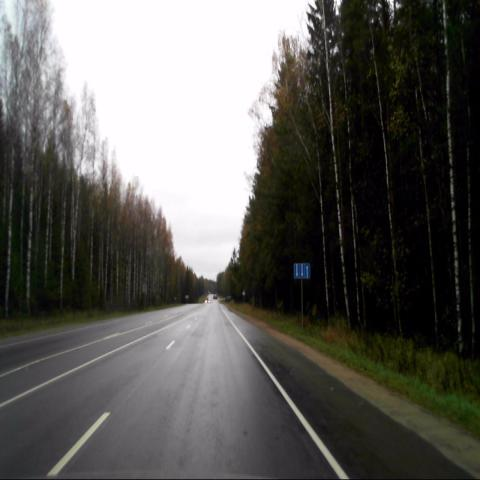5_15_7: (293, 263, 310, 278)
